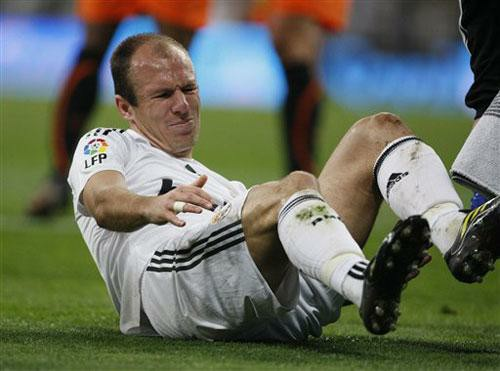fall: (43, 22, 464, 351)
